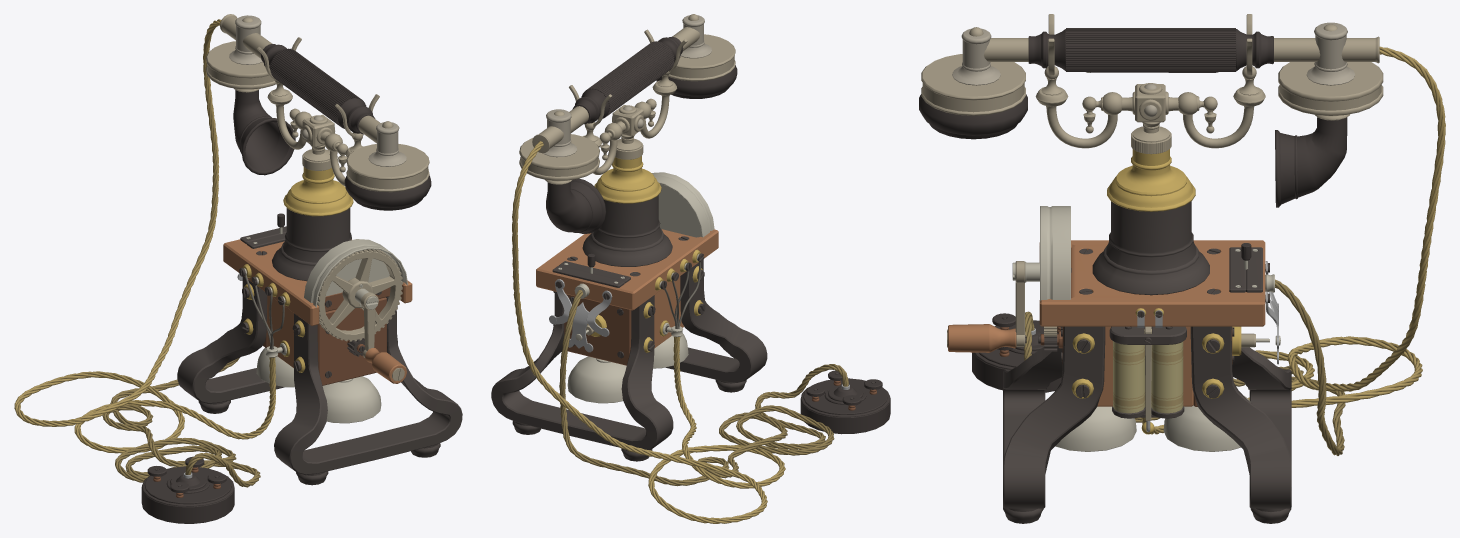
File: telephone 1895.fbx
The picture shows the model from 3 angles, left to right: view 1: azimuth 30°, elevation 25°; view 2: azimuth 150°, elevation 25°; view 3: azimuth 270°, elevation 25°; orthographic projection. The views are drawn at different scales.
Visible parts, largest first — view 1: polySurface8, pCube13, pCube14, polySurface95, pCube6, pCylinder32, polySurface1, pCylinder59, pCylinder4, pCube58, polySurface2, pCylinder78 (+15 smaller); view 2: polySurface8, polySurface95, pCube14, pCube58, pCube13, polySurface1, pCube8, pCylinder32, pCylinder78, polySurface2, pCylinder59, pCylinder94 (+15 smaller); view 3: pCube58, pCube6, polySurface1, pCube8, pCylinder78, polySurface8, polySurface2, pCylinder59, pCylinder39, pCylinder94, pCylinder41, pCube13 (+20 smaller).
Part boxes in pixels (bbox=[...]): polySurface8: bbox=[14, 19, 275, 453]; pCube13: bbox=[274, 313, 377, 474]; pCube14: bbox=[177, 276, 279, 403]; polySurface95: bbox=[102, 357, 260, 487]; pCube6: bbox=[361, 296, 462, 459]; pCylinder32: bbox=[141, 466, 234, 523]; polySurface1: bbox=[272, 208, 351, 281]; pCylinder59: bbox=[233, 90, 295, 175]; pCylinder4: bbox=[317, 250, 401, 340]; pCube58: bbox=[223, 239, 412, 325]; polySurface2: bbox=[283, 145, 353, 216]; pCylinder78: bbox=[270, 48, 366, 128]; polySurface8: bbox=[512, 141, 785, 523]; polySurface95: bbox=[559, 290, 848, 486]; pCube14: bbox=[573, 295, 673, 449]; pCube58: bbox=[536, 229, 718, 310]; pCube13: bbox=[668, 260, 767, 382]; polySurface1: bbox=[582, 195, 672, 266]; pCube8: bbox=[491, 291, 589, 436]; pCylinder32: bbox=[800, 378, 890, 434]; pCylinder78: bbox=[581, 41, 674, 118]; polySurface2: bbox=[594, 134, 661, 203]; pCylinder59: bbox=[546, 178, 606, 233]; pCylinder94: bbox=[519, 134, 599, 180]; pCube58: bbox=[1039, 240, 1265, 326]; pCube6: bbox=[1003, 326, 1105, 508]; polySurface1: bbox=[1092, 201, 1209, 295]; pCube8: bbox=[1190, 326, 1291, 508]; pCylinder78: bbox=[1066, 28, 1235, 71]; polySurface8: bbox=[1141, 46, 1445, 434]; polySurface2: bbox=[1107, 122, 1195, 211]; pCylinder59: bbox=[1275, 117, 1347, 207]; pCylinder39: bbox=[921, 54, 1025, 115]; pCylinder94: bbox=[1278, 62, 1383, 115]; pCylinder41: bbox=[1028, 29, 1273, 71]; pCube13: bbox=[1003, 268, 1071, 453].
Size of the model in its own units: 6.88 by 7.76 by 8.11.
